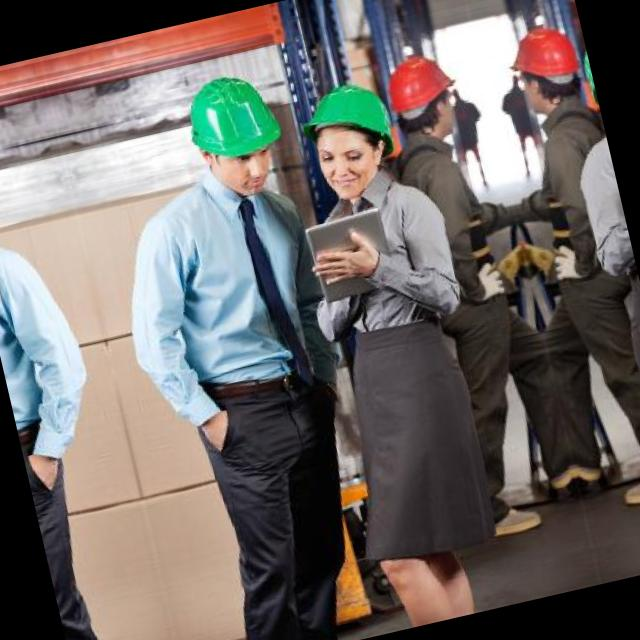helmet: (163, 59, 312, 221), (284, 62, 416, 207), (492, 10, 594, 130), (373, 37, 474, 157)
